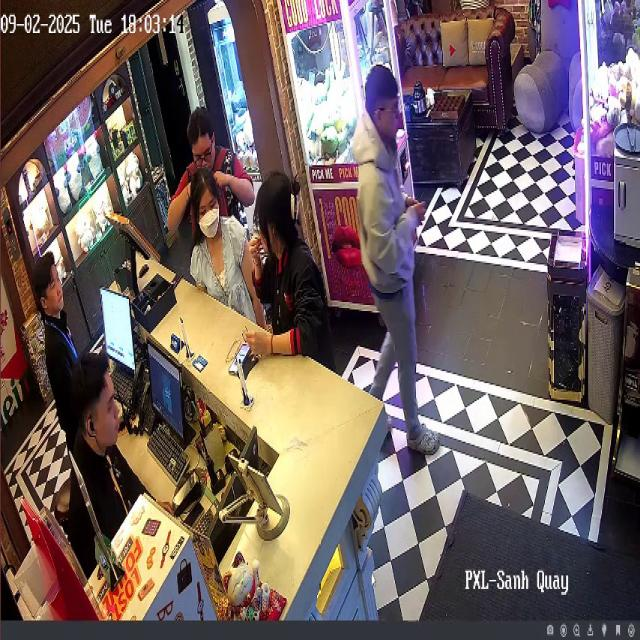khach: (355, 63, 442, 464), (158, 96, 258, 288), (252, 167, 336, 387), (188, 168, 266, 351)
nhan vien: (68, 350, 135, 564), (32, 244, 86, 444)
